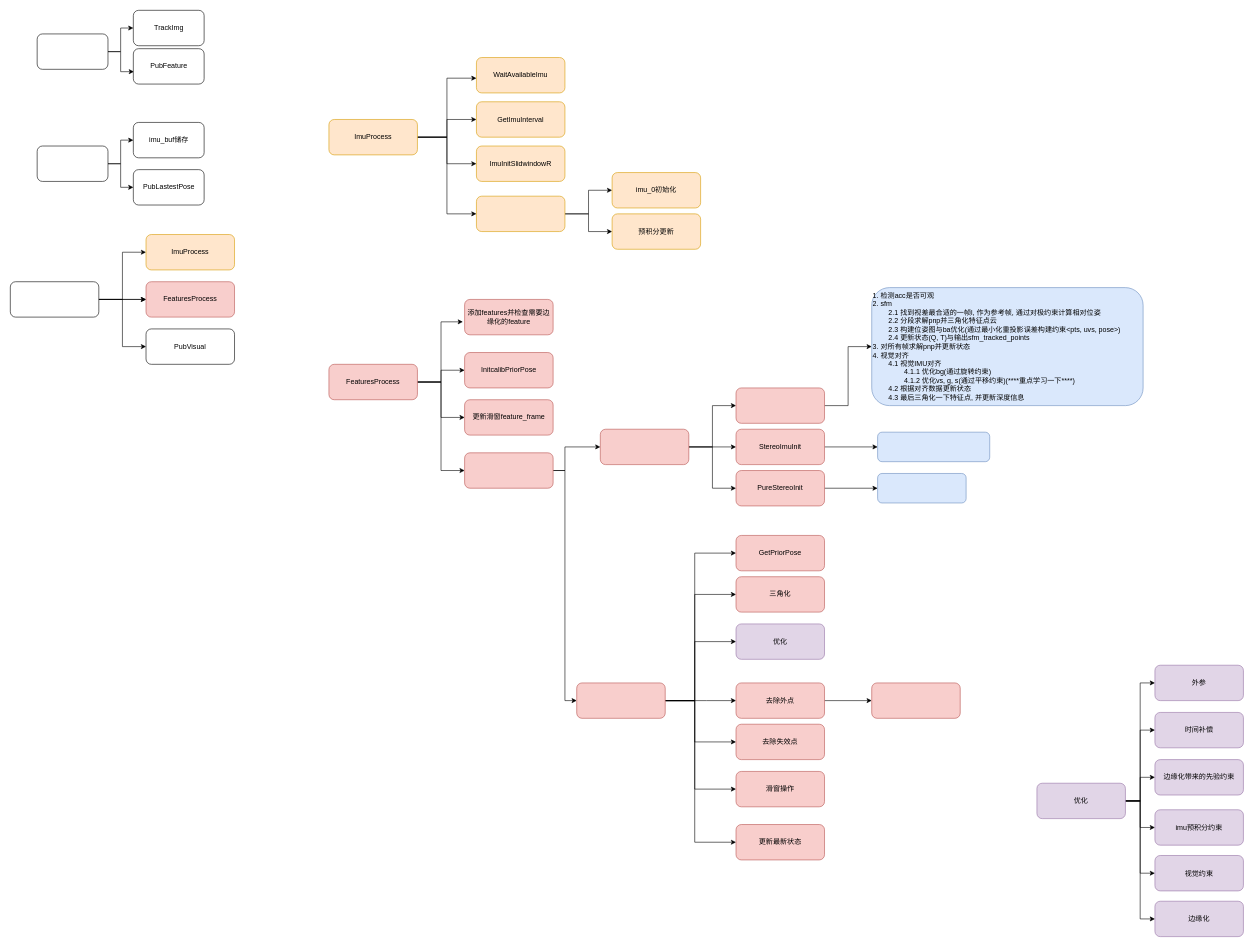
The diagram is 1254 pixels wide and 947 high, and some of its shapes have lost their labels. The shapes that lost their labels are listed below. From the top down, each one's centre as x and y in pixels, then its label:
[72,51]: ImgInput
[72,163]: ImuInput
[520,214]: ImuProcessForFactor
[54,299]: ProcessMeasurements
[780,405]: MonoImuInit
[644,447]: Init
[933,447]: 1. 直接pnp求解初始化点云 2. 优化bg(通过通过旋转约束)
[508,470]: Solver
[921,488]: 1. 直接pnp求解初始化点云
[620,700]: run
[915,700]: 通过重投影误差去外点
